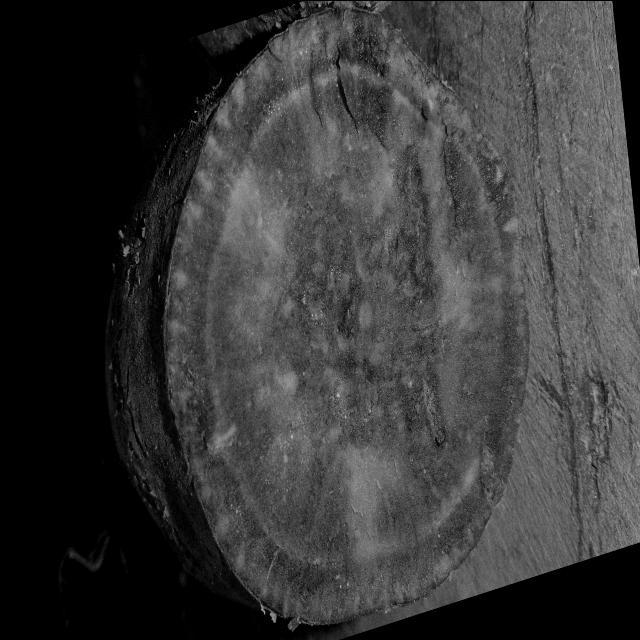Sick Sweet Potato_Tuber Rot: (166, 11, 529, 622)
